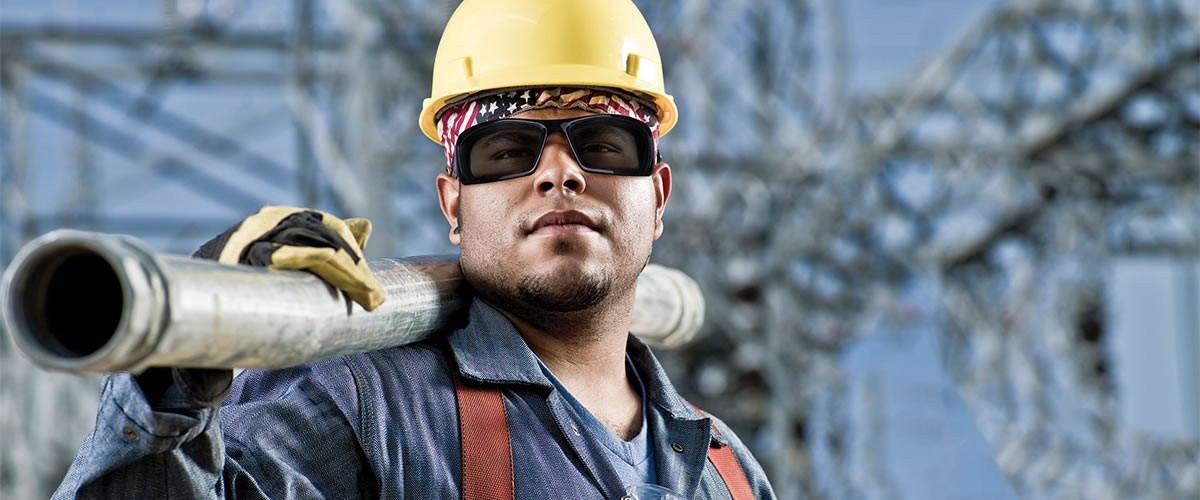epi: (224, 1, 774, 500)
